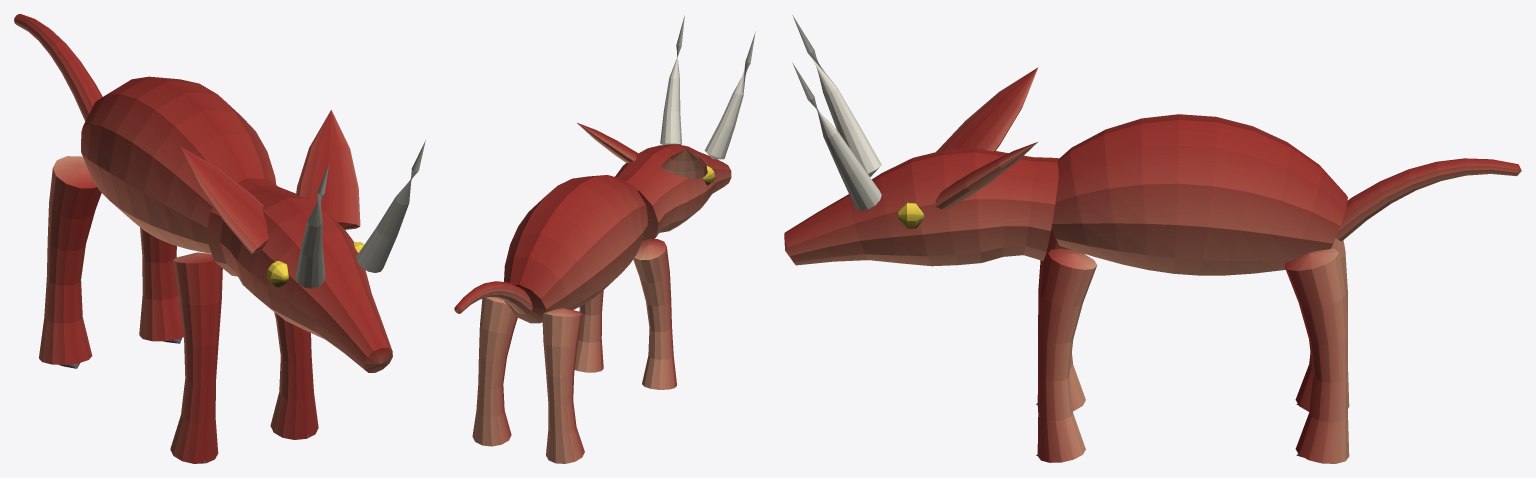
Rendered from designed_merge_family.glb.
3 renders of one model, left to right at view 1: azimuth 30°, elevation 25°; view 2: azimuth 150°, elevation 25°; view 3: azimuth 270°, elevation 25°, orthographic. The views are drawn at different scales.
Parts seen in each view (by area): view 1: Tuskrunner_x_Macebulk; view 2: Tuskrunner_x_Macebulk; view 3: Tuskrunner_x_Macebulk.
Part boxes in pixels (bbox=[...]): Tuskrunner_x_Macebulk: bbox=[14, 14, 425, 463]; Tuskrunner_x_Macebulk: bbox=[454, 15, 755, 463]; Tuskrunner_x_Macebulk: bbox=[784, 15, 1521, 463].
Size of the model in its own units: 0.812 by 2.01 by 3.4.
Materials: 1 (1 with a texture image).
